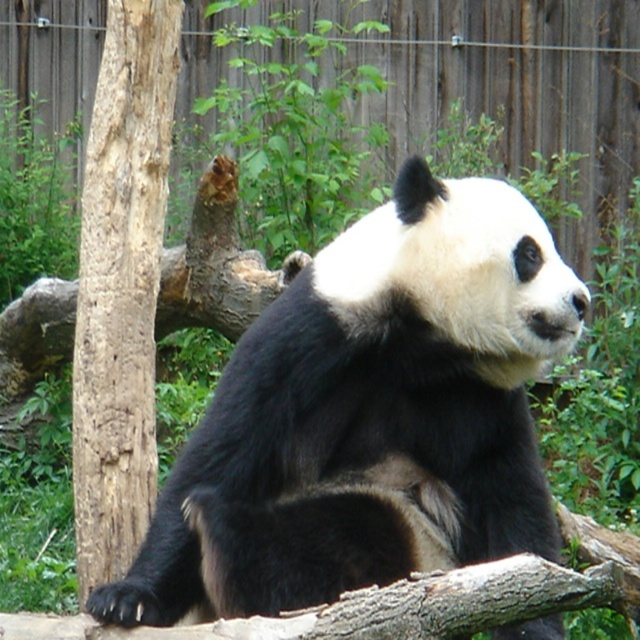Panda: (85, 150, 591, 640)
